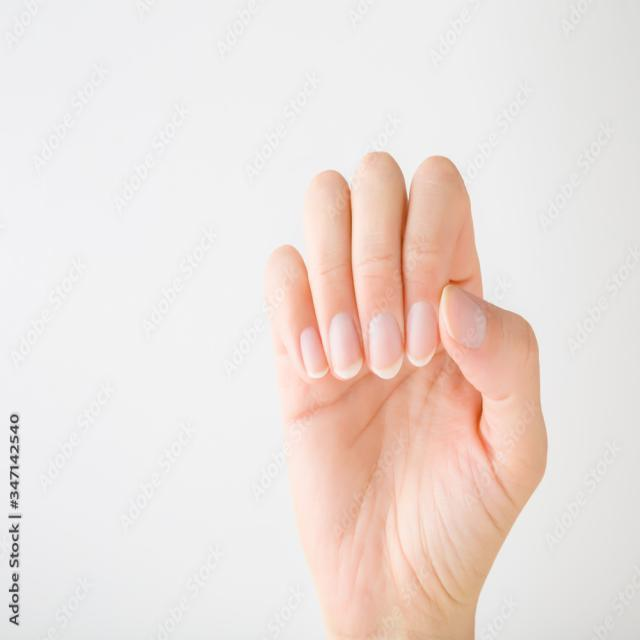Fingernail: (445, 285, 485, 349), (368, 314, 403, 381), (329, 312, 362, 380), (406, 302, 438, 367), (301, 327, 328, 378)
